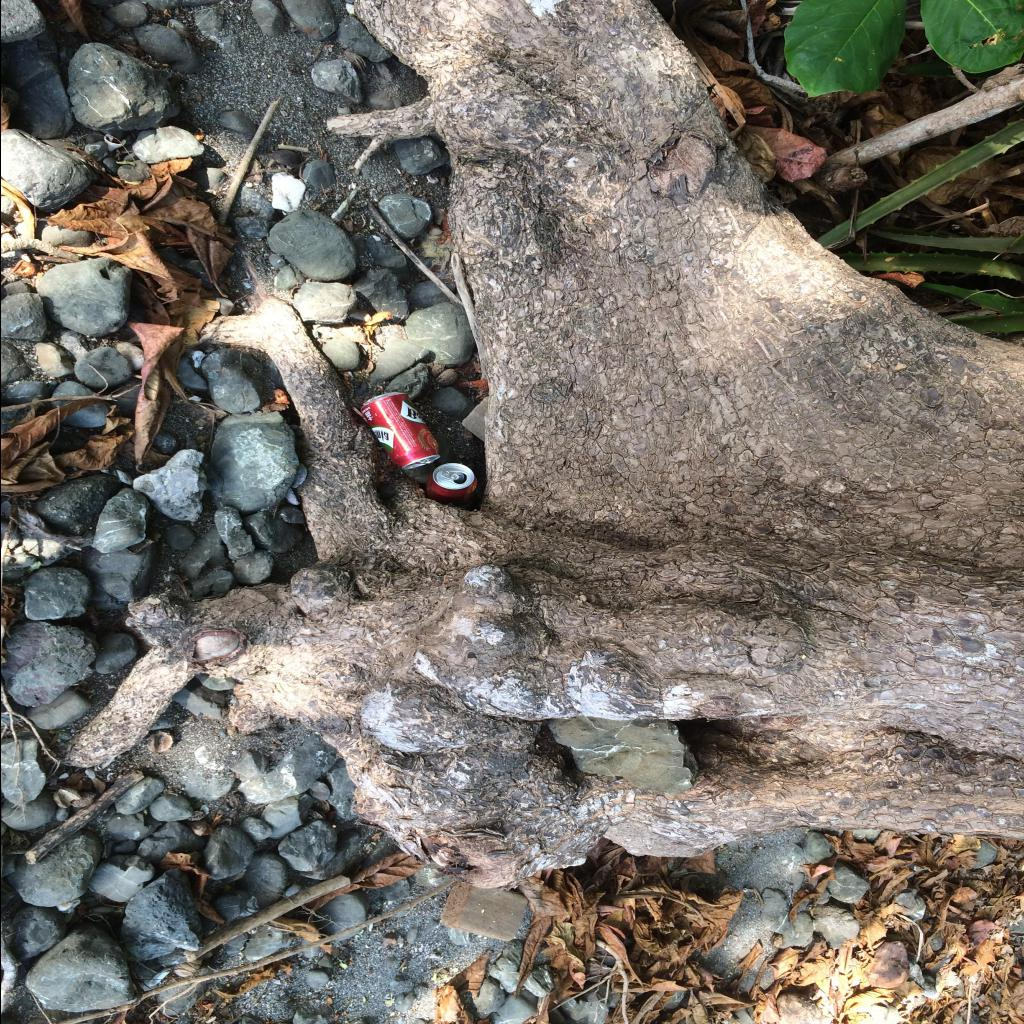Drink can: (360, 392, 440, 470), (424, 464, 476, 510)
Pop tab: (440, 470, 458, 480), (414, 460, 432, 464)
